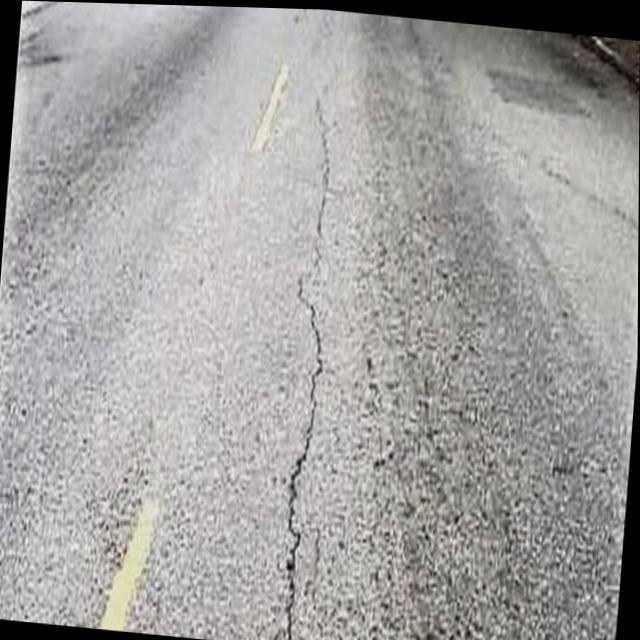Crack: (218, 68, 360, 640)
